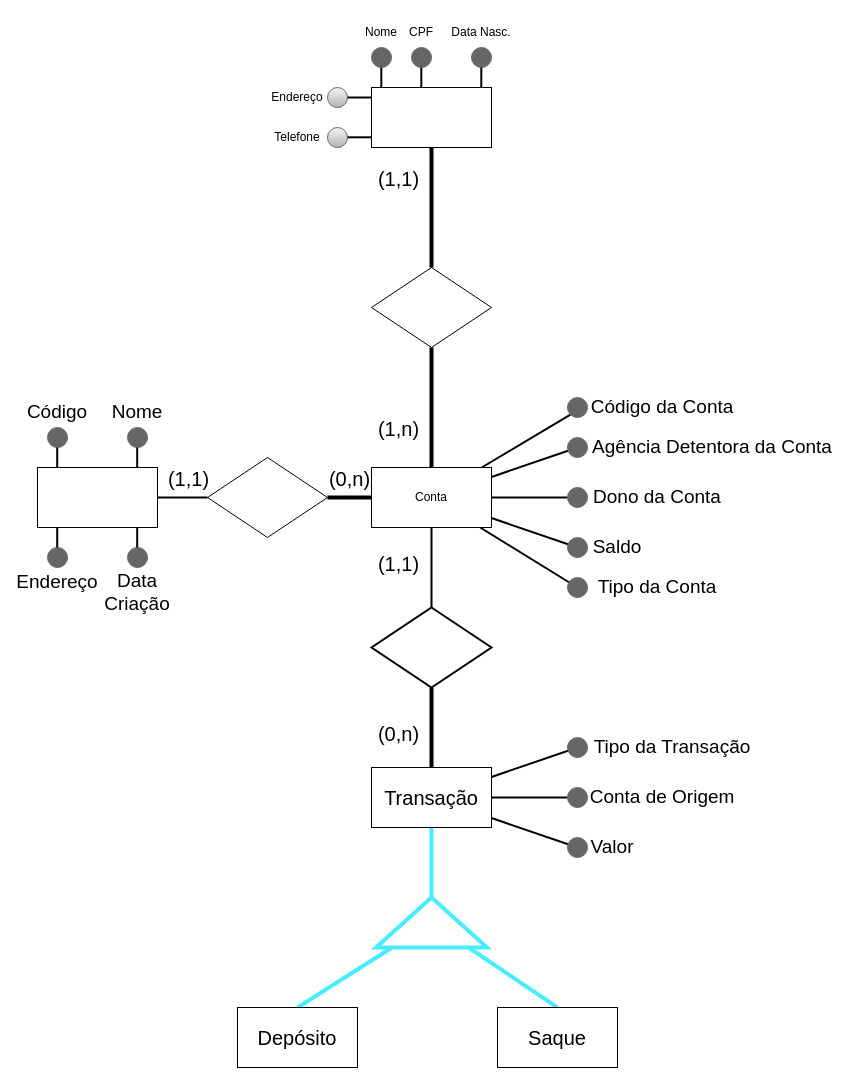
This 855x1085 diagram has some shape labels left out. Here are the shapes that lost their labels. From the top down, the centre of each, then its label:
At pixel 431 117: "Cliente".
At pixel 97 497: "Agência".
